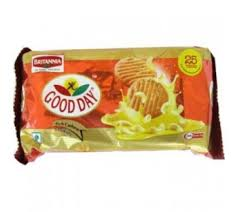gooday-medium: (16, 40, 217, 152)
